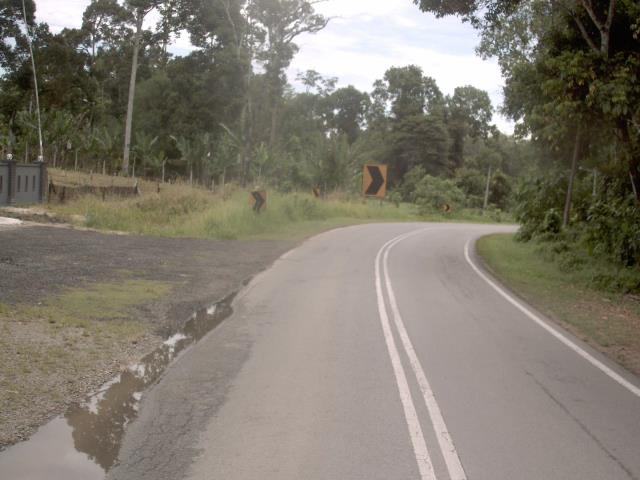traffic_sign: (355, 157, 393, 204)
